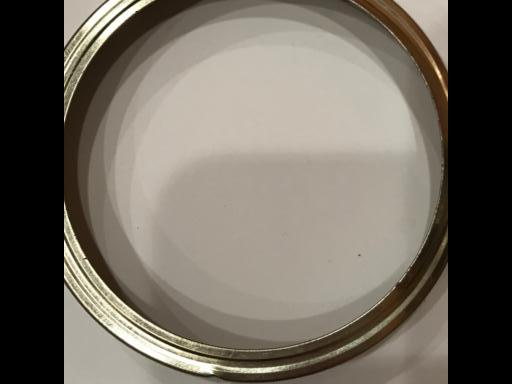metal: (65, 2, 446, 381)
